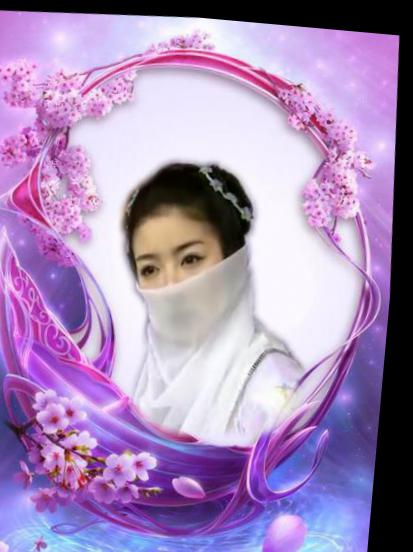WRONG: (131, 224, 245, 339)
